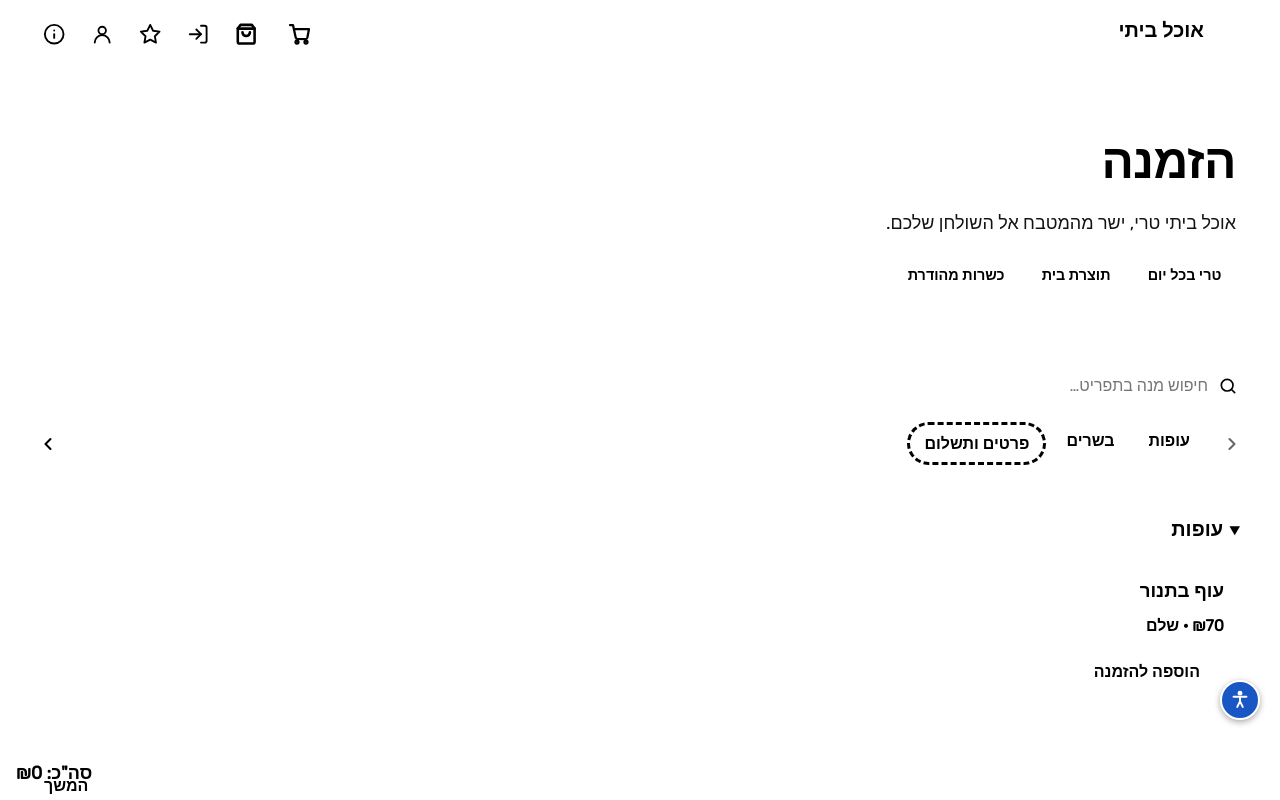
Scenario: Order flow by category steps › shows the first category, pages with the arrows and jumps to the details
Expected: the heading "עופות" is shown, [1171,517,1223,541]
Expected: the button named "לשלב הקודם" is disabled, [1212,424,1252,464]
Click the button named "לשלב הבא": coordinates (48, 444) [28,424,68,464]
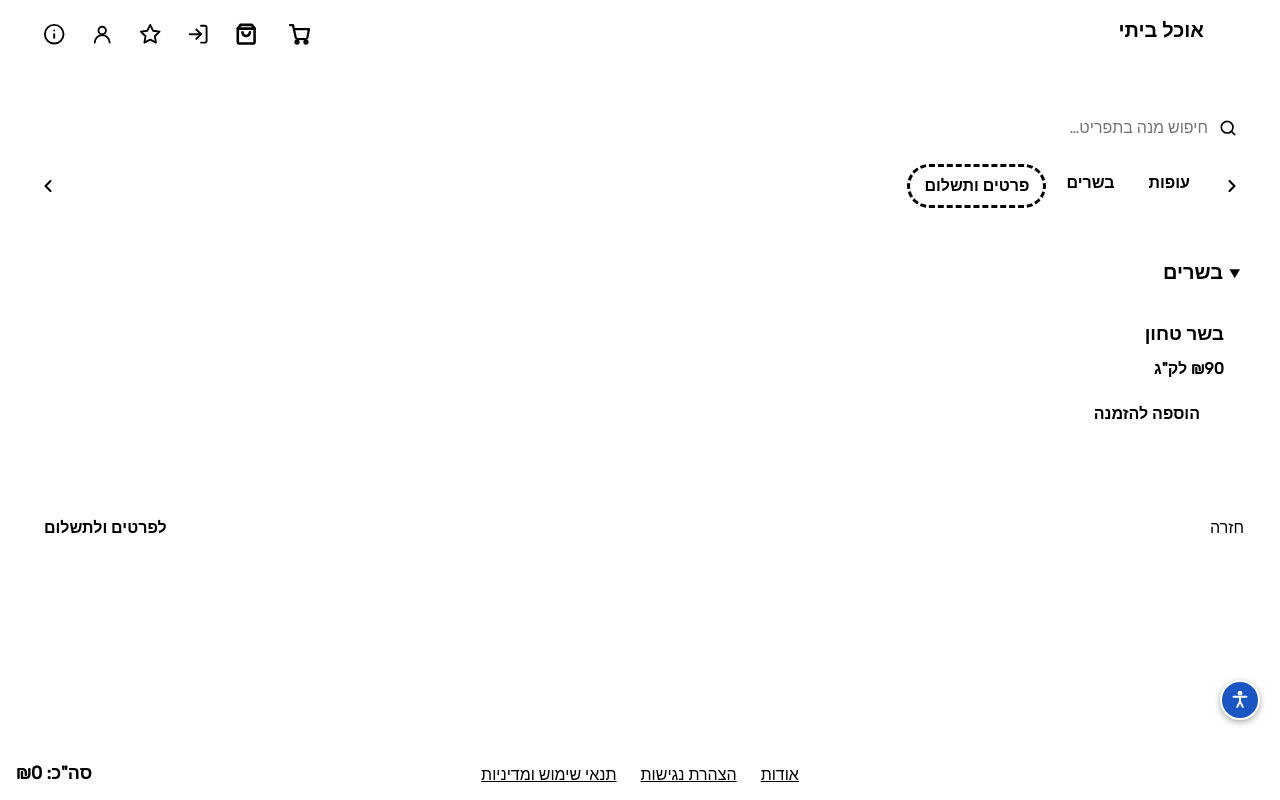
Now the heading "בשרים" is shown, box [1163,260,1223,284]
Click the button "פרטים ותשלום": coordinates (977, 186) [908,164,1046,208]
(page scrolled)
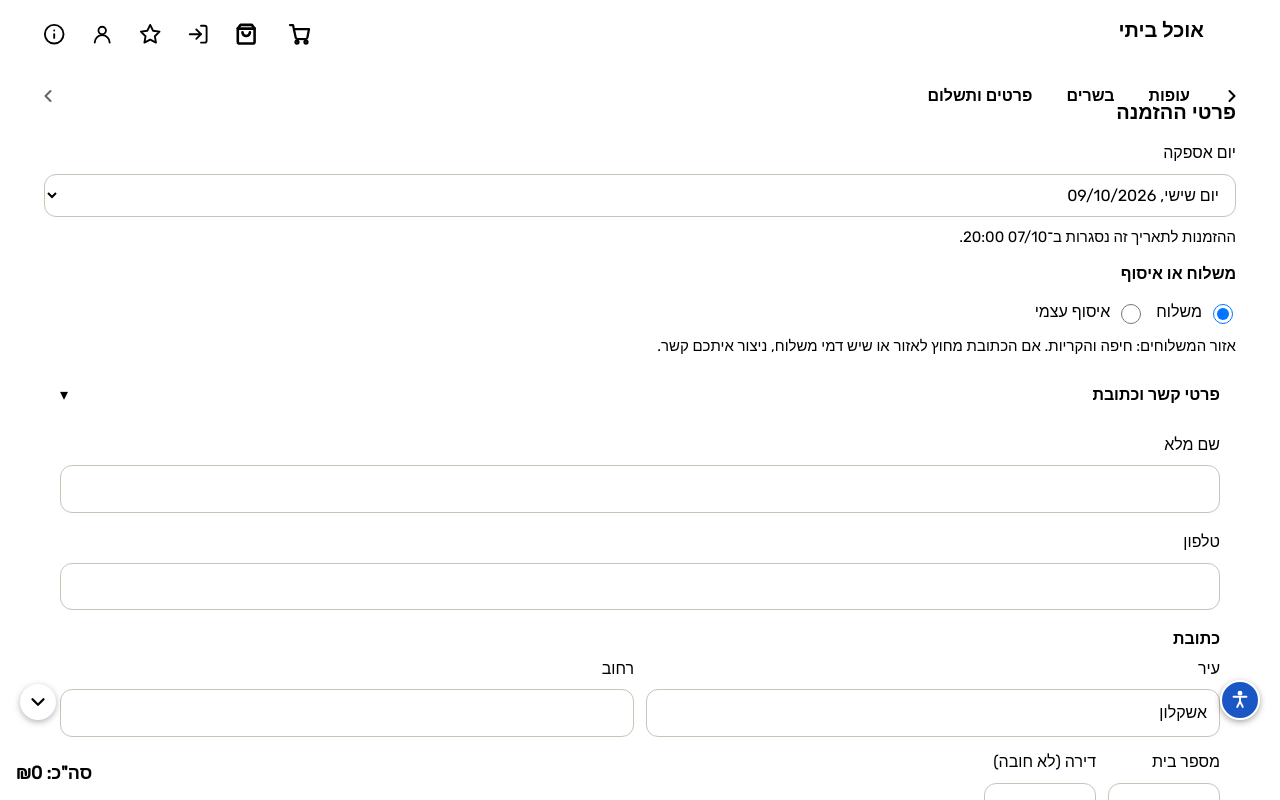
Now the button named "לשלב הבא" is disabled, box [28,76,68,116]
